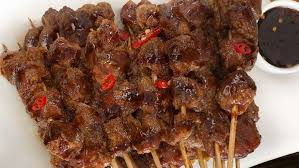sate: (8, 4, 286, 168)
